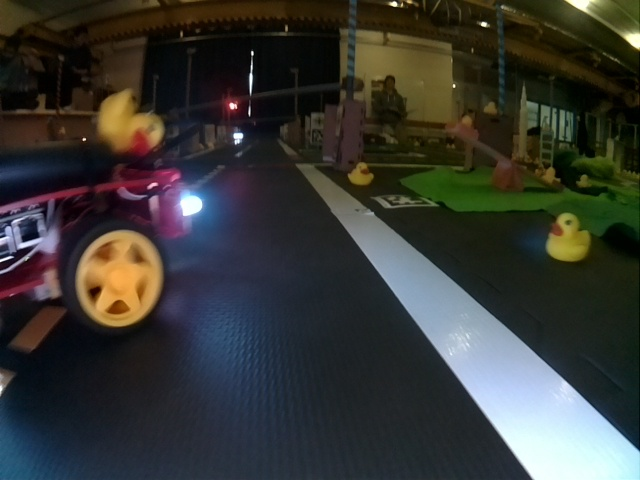Duckie: (99, 89, 162, 152), (545, 212, 591, 260), (347, 165, 375, 185), (542, 166, 561, 183)
Duckiebot: (2, 144, 189, 335)
QR code: (372, 194, 435, 209)
Traffic light: (229, 101, 239, 111)
